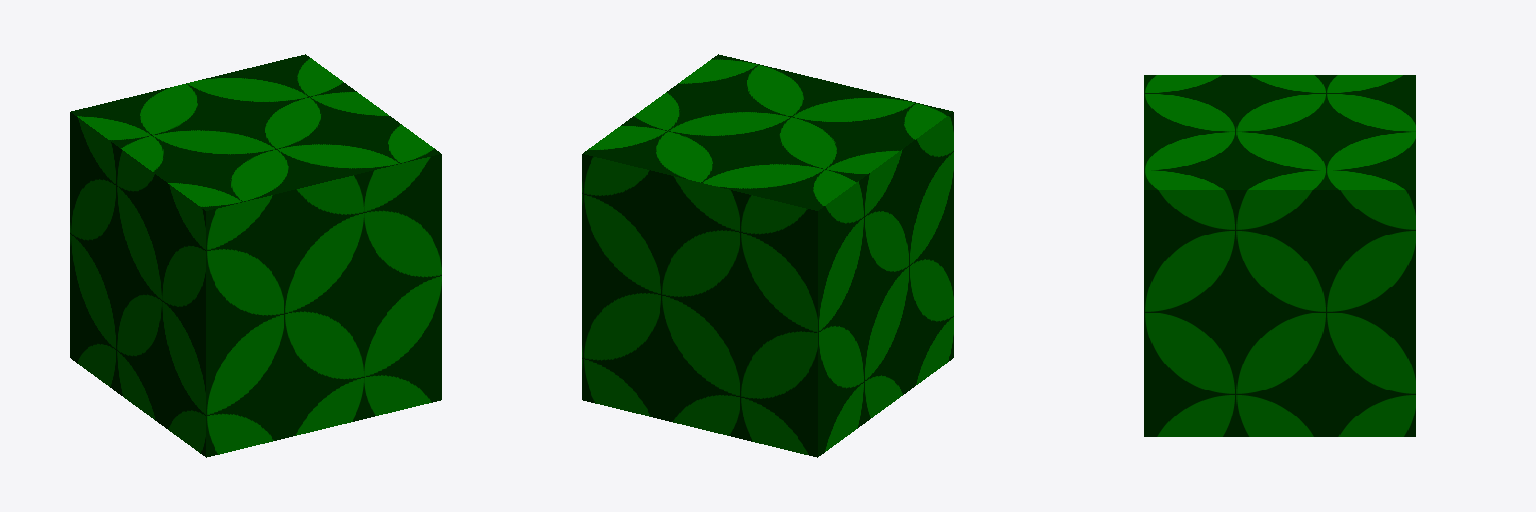
3 renders of one model, left to right at view 1: azimuth 30°, elevation 25°; view 2: azimuth 150°, elevation 25°; view 3: azimuth 270°, elevation 25°, orthographic.
Parts seen in each view (by area): view 1: Cube; view 2: Cube; view 3: Cube.
Part boxes in pixels (left/top/right/bottom): Cube: left=70, top=54, right=441, bottom=457; Cube: left=582, top=54, right=953, bottom=457; Cube: left=1144, top=75, right=1415, bottom=436.
Size of the model in its own units: 2 by 2 by 2.
Materials: 1 (1 with a texture image).